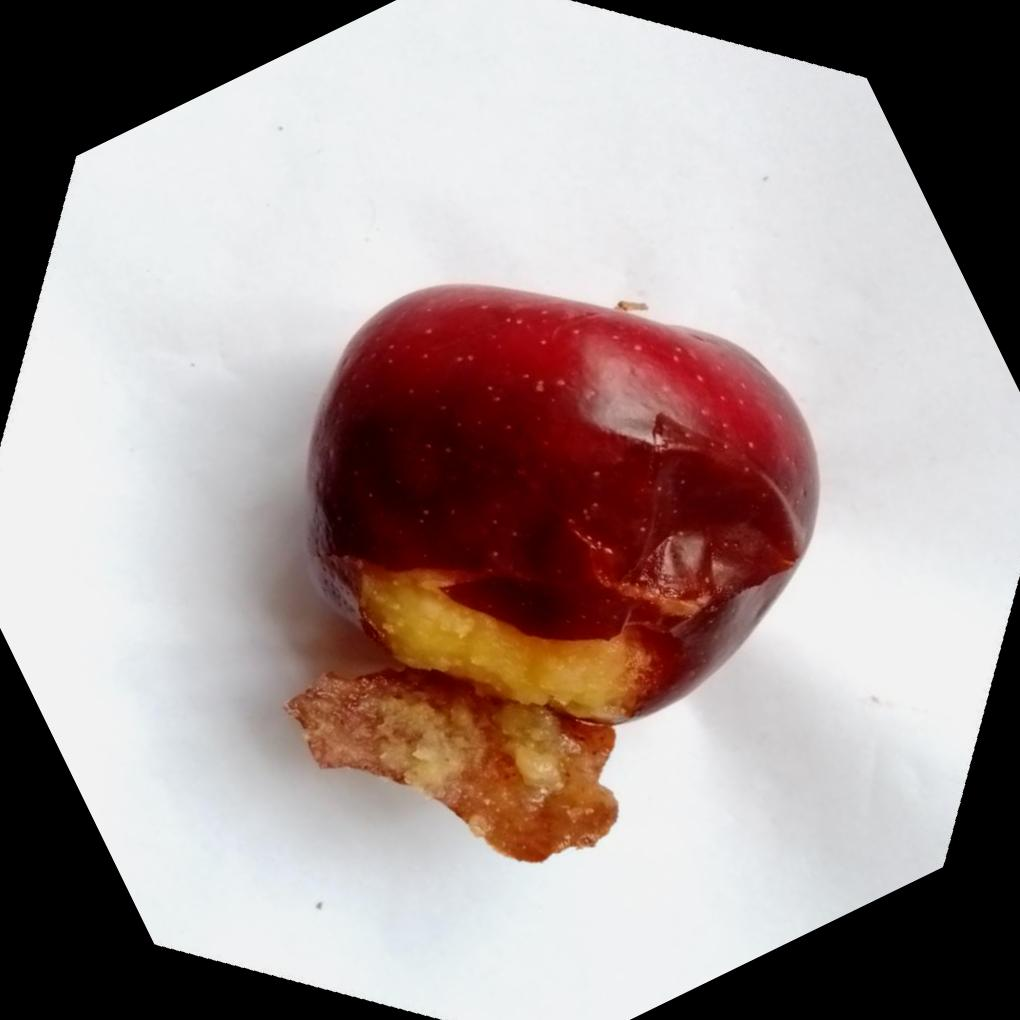FreshOrange: (307, 281, 824, 725)
